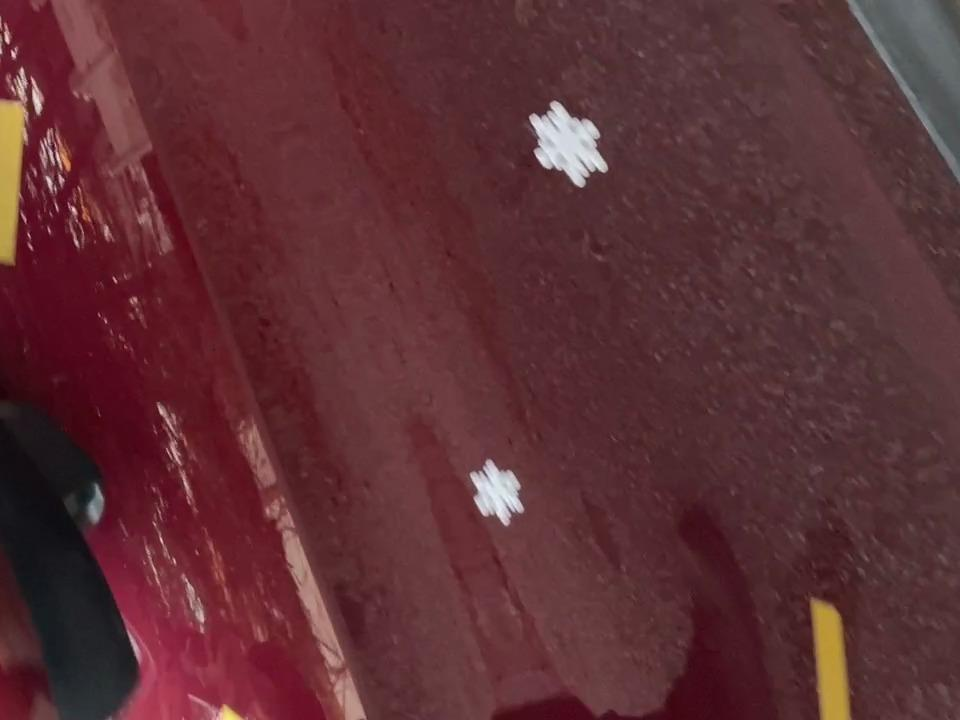dent: (521, 84, 617, 208), (469, 451, 534, 548)
scratch: (796, 583, 870, 720), (0, 88, 45, 273)
